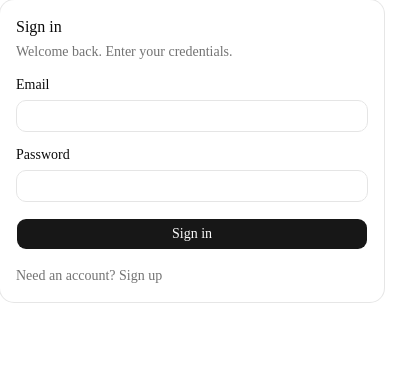
Scenario: LoginForm › toggles to sign-up and reveals the name field
Click the button "Need an account? Sign up": (89, 276) [16,266,162,286]
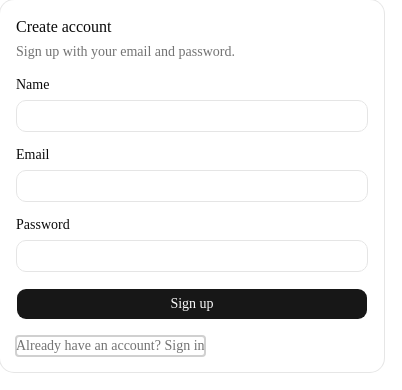
Expected: the field labelled "Name" is shown, [16,100,368,132]
Now the button "Sign up" is shown, box [16,288,368,320]
